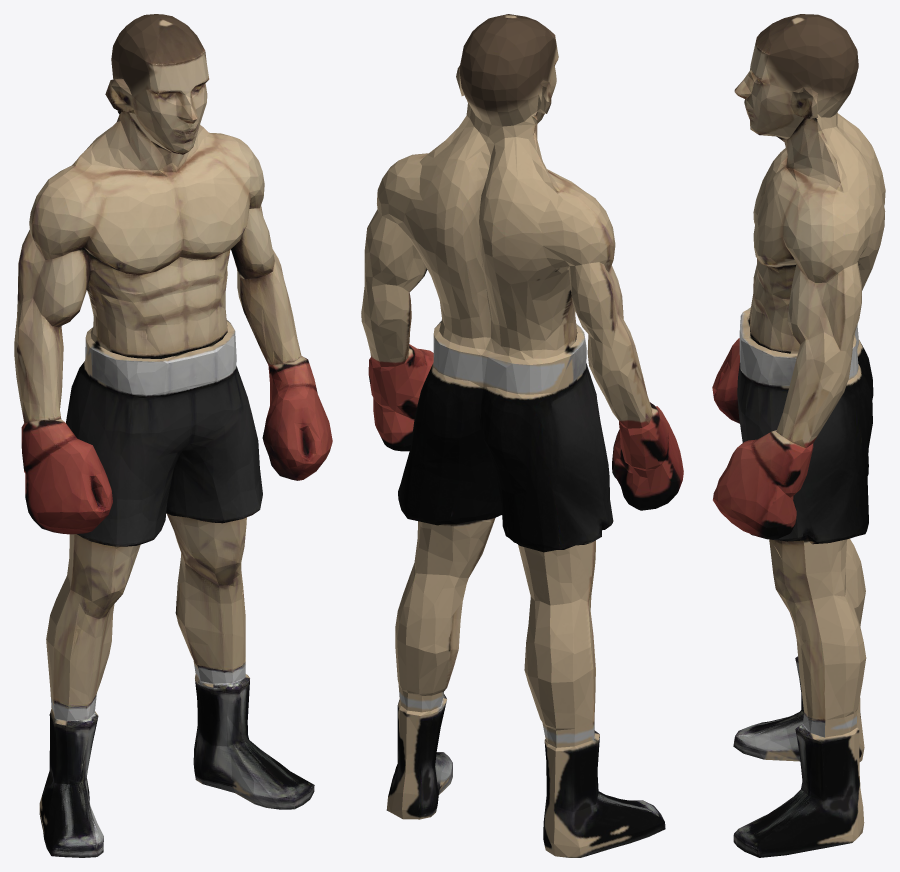
Rendered from boxer.glb.
3 views of the same model, side by side, from view 1: azimuth 30°, elevation 25°; view 2: azimuth 150°, elevation 25°; view 3: azimuth 270°, elevation 25° (orthographic). The views are drawn at different scales.
Bounding box in the file's own units: 0.9615 × 2.42 × 0.4879.
Materials: 1 (1 with a texture image).
